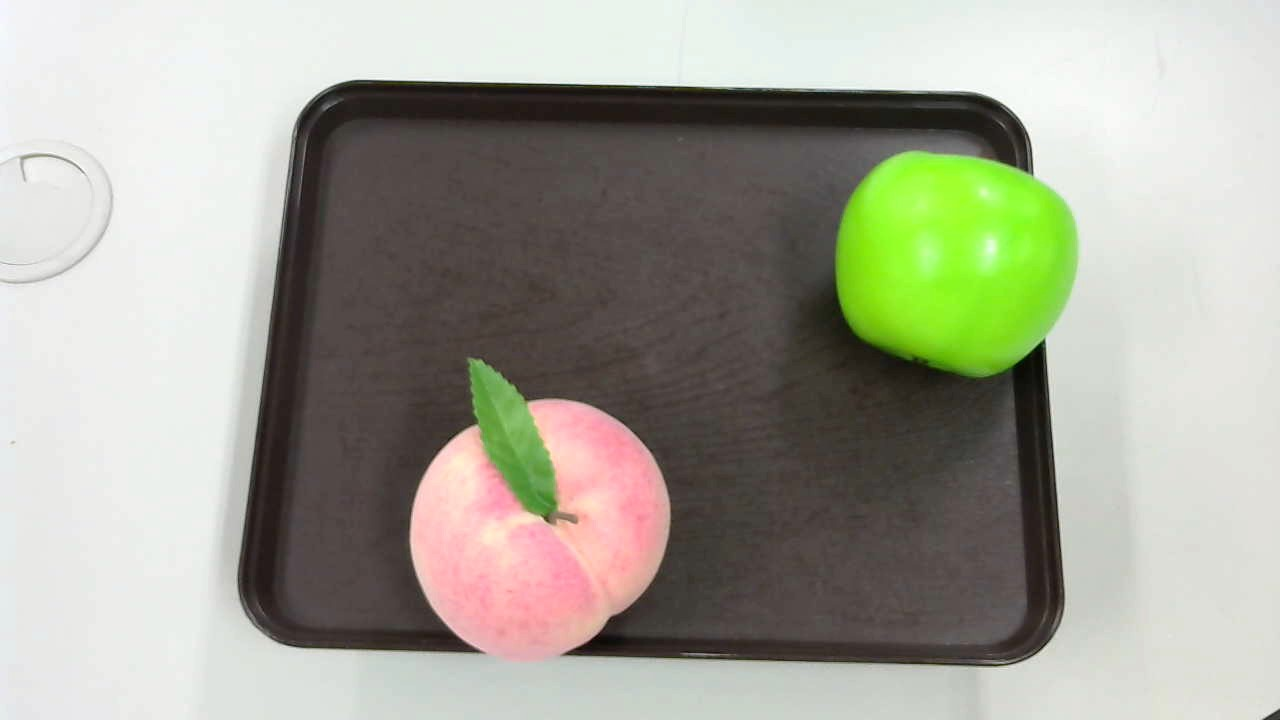green apple: (833, 142, 1079, 393)
peach: (400, 356, 670, 656)
